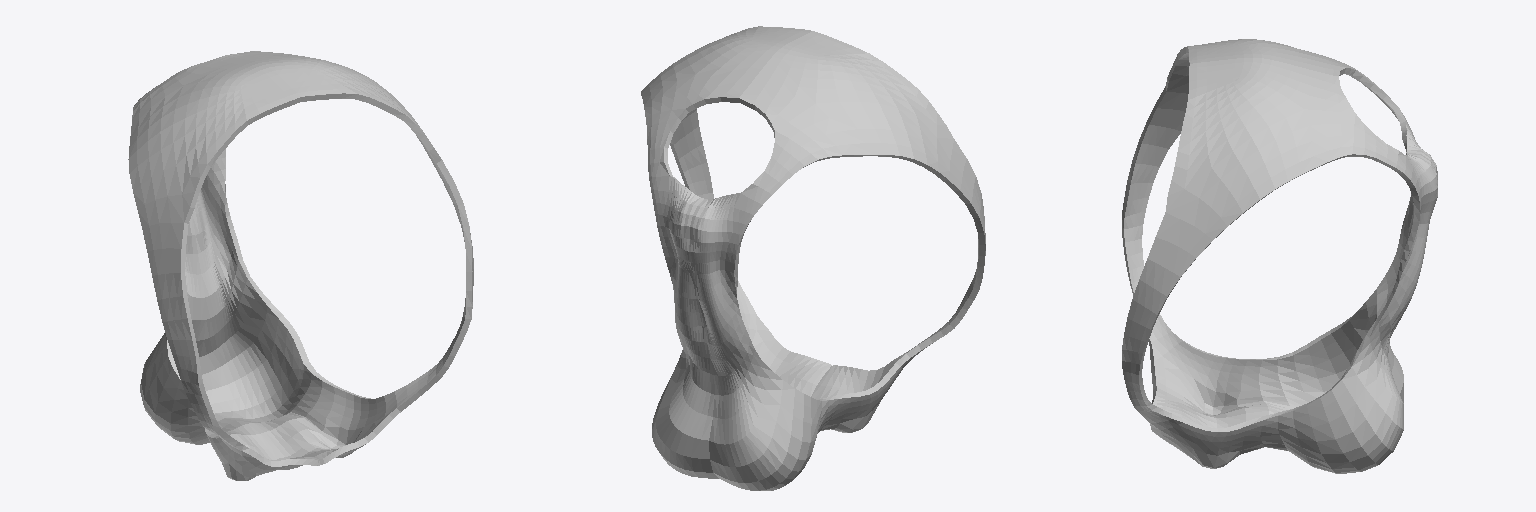
File: Pone Undies 3.0.obj
The picture shows the model from 3 angles: view 1: azimuth 30°, elevation 25°; view 2: azimuth 150°, elevation 25°; view 3: azimuth 270°, elevation 25°; orthographic projection.
Parts seen in each view (by area): view 1: panties_female.005_panties_reference.003; view 2: panties_female.005_panties_reference.003; view 3: panties_female.005_panties_reference.003.
Boxes of the visible parts, <box> form: panties_female.005_panties_reference.003: <box>128,51,473,480</box>; panties_female.005_panties_reference.003: <box>641,26,985,490</box>; panties_female.005_panties_reference.003: <box>1122,39,1437,473</box>.
Bounding box in the file's own units: 28.67 × 35.03 × 25.36.